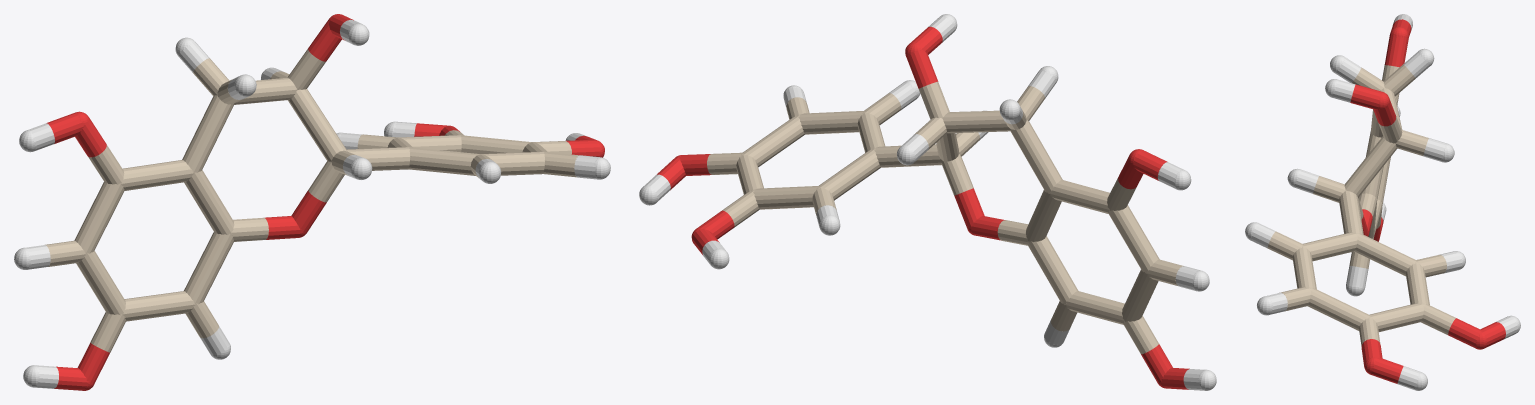
Rendered from catechin.fbx.
3 renders of one model, left to right at view 1: azimuth 30°, elevation 25°; view 2: azimuth 150°, elevation 25°; view 3: azimuth 270°, elevation 25°, orthographic. The views are drawn at different scales.
Visible parts, largest first — view 1: Shape_Cylinder.031, Shape_Cylinder.024, Shape_Cylinder.038, Shape_Cylinder.041, Shape_Cylinder.037, Shape_Cylinder.042, Shape_Cylinder.036, Shape_Cylinder.051, Shape_Cylinder.040, Shape_Cylinder.048, Shape_Cylinder.028, Shape_Cylinder.025 (+19 smaller); view 2: Shape_Cylinder.031, Shape_Cylinder.041, Shape_Cylinder.038, Shape_Cylinder.055, Shape_Cylinder.039, Shape_Cylinder.025, Shape_Cylinder.045, Shape_Cylinder.048, Shape_Cylinder.037, Shape_Cylinder.042, Shape_Cylinder.036, Shape_Cylinder.051 (+24 smaller); view 3: Shape_Cylinder.024, Shape_Cylinder.055, Shape_Cylinder.039, Shape_Cylinder.054, Shape_Cylinder.040, Shape_Cylinder.028, Shape_Cylinder.048, Shape_Cylinder.045, Shape_Cylinder.017, Shape_Cylinder.008, Shape_Cylinder.016, Shape_Cylinder.049 (+29 smaller).
Part boxes in pixels (x1=…): Shape_Cylinder.031: x1=182, y1=95, x2=234, y2=172; Shape_Cylinder.024: x1=288, y1=89, x2=347, y2=161; Shape_Cylinder.038: x1=184, y1=232, x2=233, y2=304; Shape_Cylinder.041: x1=74, y1=182, x2=124, y2=253; Shape_Cylinder.037: x1=121, y1=160, x2=193, y2=190; Shape_Cylinder.042: x1=123, y1=291, x2=195, y2=321; Shape_Cylinder.036: x1=184, y1=170, x2=234, y2=234; Shape_Cylinder.051: x1=76, y1=251, x2=125, y2=314; Shape_Cylinder.040: x1=408, y1=147, x2=480, y2=175; Shape_Cylinder.048: x1=482, y1=151, x2=544, y2=175; Shape_Cylinder.028: x1=347, y1=147, x2=410, y2=170; Shape_Cylinder.025: x1=234, y1=77, x2=297, y2=104; Shape_Cylinder.031: x1=1010, y1=120, x2=1062, y2=193; Shape_Cylinder.041: x1=1108, y1=205, x2=1159, y2=273; Shape_Cylinder.038: x1=1027, y1=236, x2=1078, y2=304; Shape_Cylinder.055: x1=742, y1=115, x2=804, y2=167; Shape_Cylinder.039: x1=818, y1=149, x2=880, y2=200; Shape_Cylinder.025: x1=942, y1=110, x2=1010, y2=133; Shape_Cylinder.045: x1=753, y1=186, x2=818, y2=209; Shape_Cylinder.048: x1=798, y1=111, x2=864, y2=134; Shape_Cylinder.037: x1=1049, y1=180, x2=1109, y2=213; Shape_Cylinder.042: x1=1065, y1=291, x2=1124, y2=324; Shape_Cylinder.036: x1=1025, y1=190, x2=1061, y2=241; Shape_Cylinder.051: x1=1122, y1=269, x2=1158, y2=321; Shape_Cylinder.024: x1=1344, y1=136, x2=1397, y2=197; Shape_Cylinder.055: x1=1307, y1=288, x2=1370, y2=330; Shape_Cylinder.039: x1=1354, y1=233, x2=1417, y2=276; Shape_Cylinder.054: x1=1369, y1=303, x2=1424, y2=331; Shape_Cylinder.040: x1=1303, y1=232, x2=1357, y2=261; Shape_Cylinder.028: x1=1339, y1=190, x2=1363, y2=234; Shape_Cylinder.048: x1=1292, y1=246, x2=1316, y2=289; Shape_Cylinder.045: x1=1405, y1=263, x2=1429, y2=305; Shape_Cylinder.017: x1=1421, y1=304, x2=1455, y2=334; Shape_Cylinder.008: x1=1384, y1=34, x2=1408, y2=67; Shape_Cylinder.016: x1=1448, y1=318, x2=1481, y2=347; Shape_Cylinder.049: x1=1267, y1=231, x2=1303, y2=260.
Size of the model in its own units: 1200 by 623 by 568.
